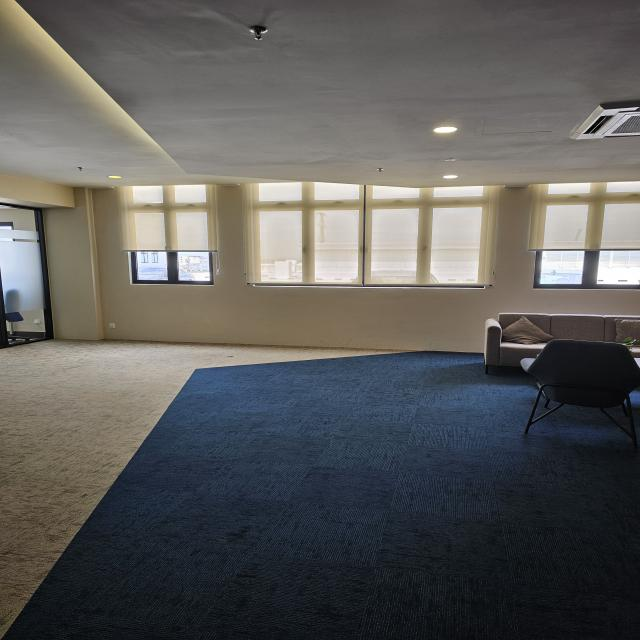footpath: (5, 349, 482, 640)
obstacle: (485, 308, 640, 442)
